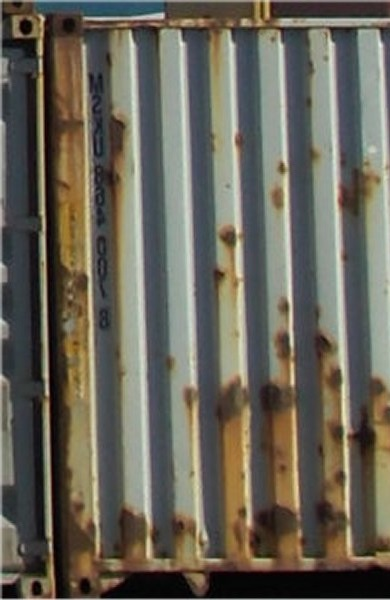container_no_door: (47, 7, 390, 597)
